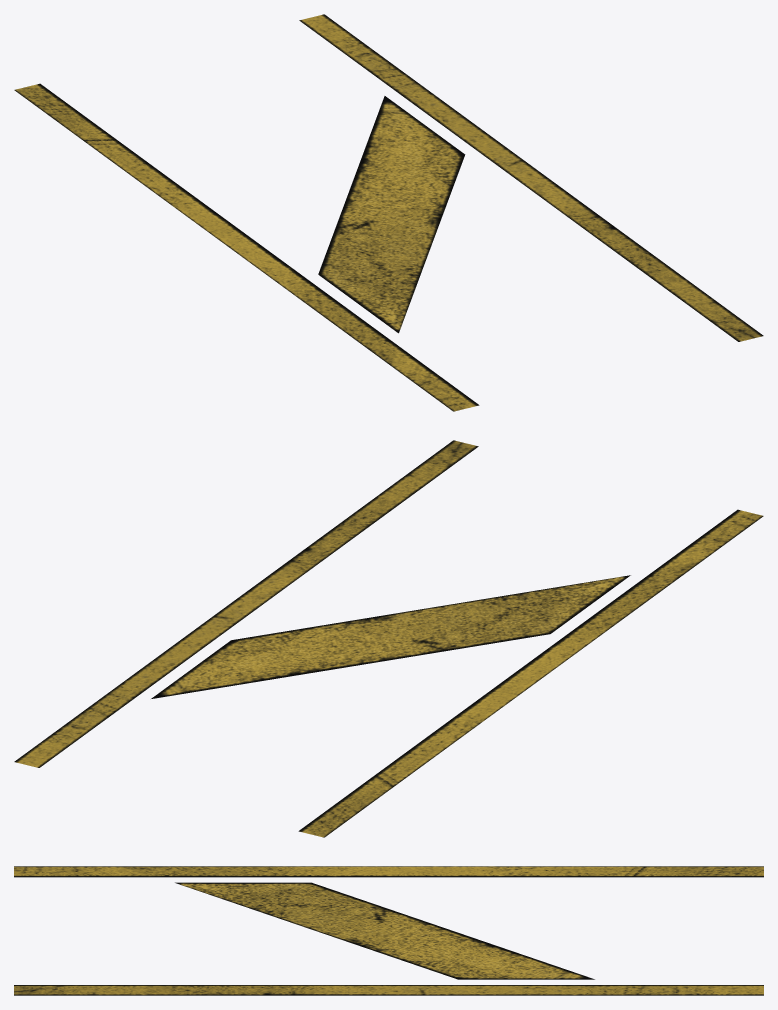
File: DECAL_Ground_03.fbx
3 views of the same model, one above another, from view 1: azimuth 30°, elevation 25°; view 2: azimuth 150°, elevation 25°; view 3: azimuth 270°, elevation 25° (orthographic). The views are drawn at different scales.
Visible parts, largest first — view 1: DECAL_Ground_03; view 2: DECAL_Ground_03; view 3: DECAL_Ground_03.
Part boxes in pixels (x1=…): DECAL_Ground_03: x1=14, y1=14, x2=763, y2=411; DECAL_Ground_03: x1=14, y1=440, x2=763, y2=837; DECAL_Ground_03: x1=14, y1=866, x2=763, y2=995.
Size of the model in its own units: 102 by 0.000117 by 250.
Materials: 1 (1 with a texture image).
